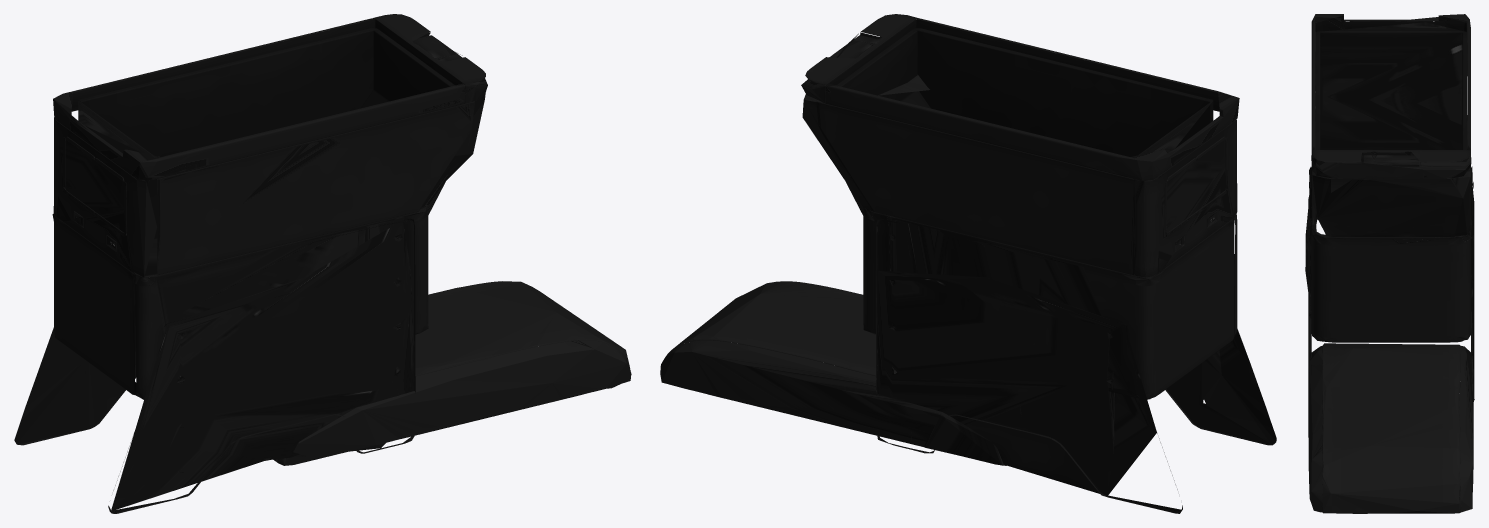
File: interiorPart_armrest_assembly_a01.glb
3 views of the same model, side by side, from view 1: azimuth 30°, elevation 25°; view 2: azimuth 150°, elevation 25°; view 3: azimuth 270°, elevation 25° (orthographic). The views are drawn at different scales.
Parts seen in each view (by area): view 1: geometry_0; view 2: geometry_0; view 3: geometry_0.
Boxes of the visible parts, <box> form: geometry_0: <box>14,14,631,513</box>; geometry_0: <box>660,14,1276,513</box>; geometry_0: <box>1305,14,1474,513</box>.
Bounding box in the file's own units: 0.42 × 0.2607 × 0.1341.
1 material, 1 textured.
